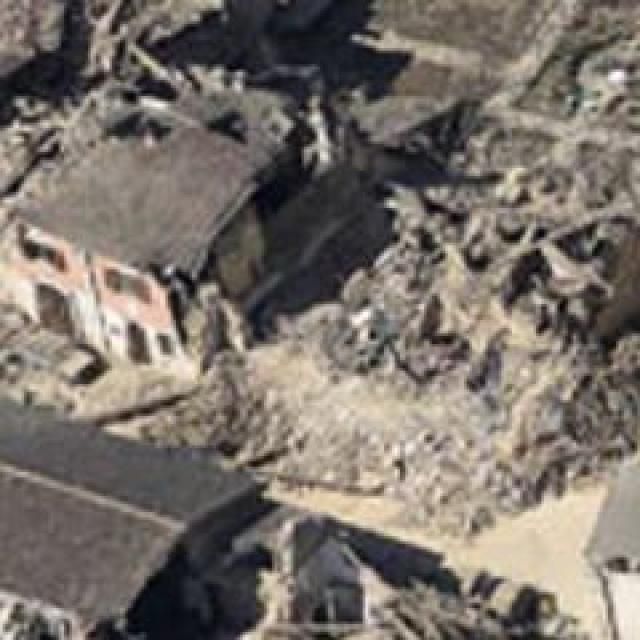collapsed_building: (304, 179, 619, 448), (91, 0, 384, 136)
